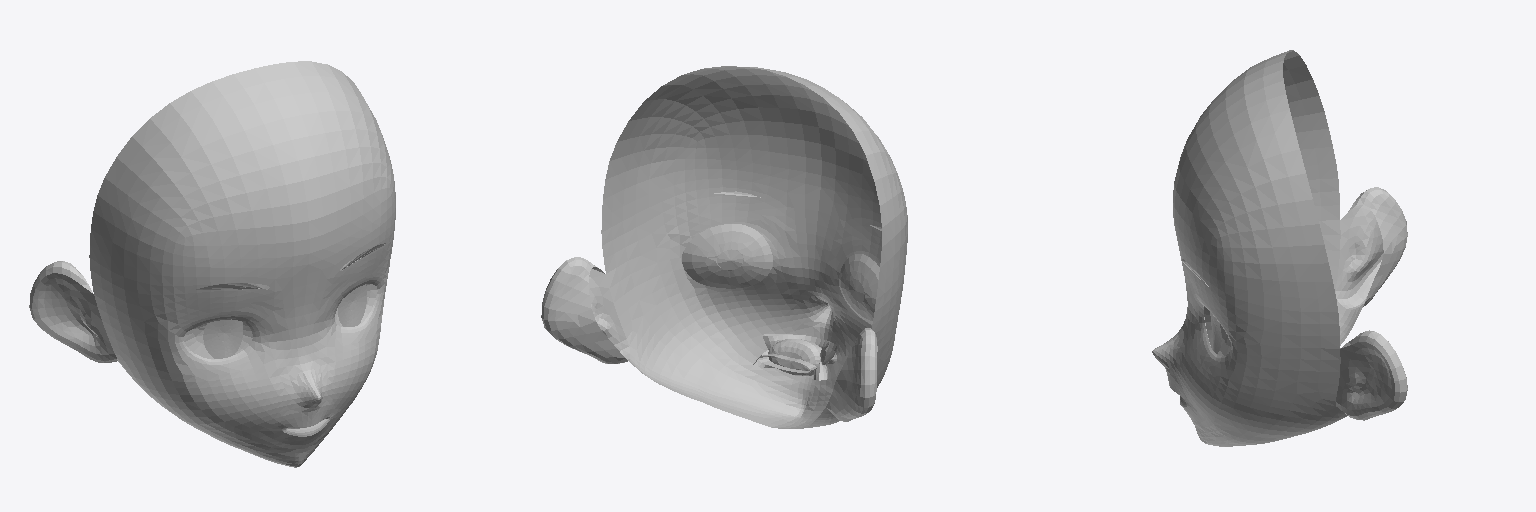
Rendered from jawLeft.obj.
3 renders of one model, left to right at view 1: azimuth 30°, elevation 25°; view 2: azimuth 150°, elevation 25°; view 3: azimuth 270°, elevation 25°, orthographic.
Visible parts, largest first — view 1: Face; view 2: Face; view 3: Face.
Part boxes in pixels (bbox=[...]): Face: bbox=[29, 61, 395, 467]; Face: bbox=[541, 66, 907, 428]; Face: bbox=[1152, 50, 1407, 446].
Size of the model in its own units: 0.2176 by 0.2333 by 0.1449.